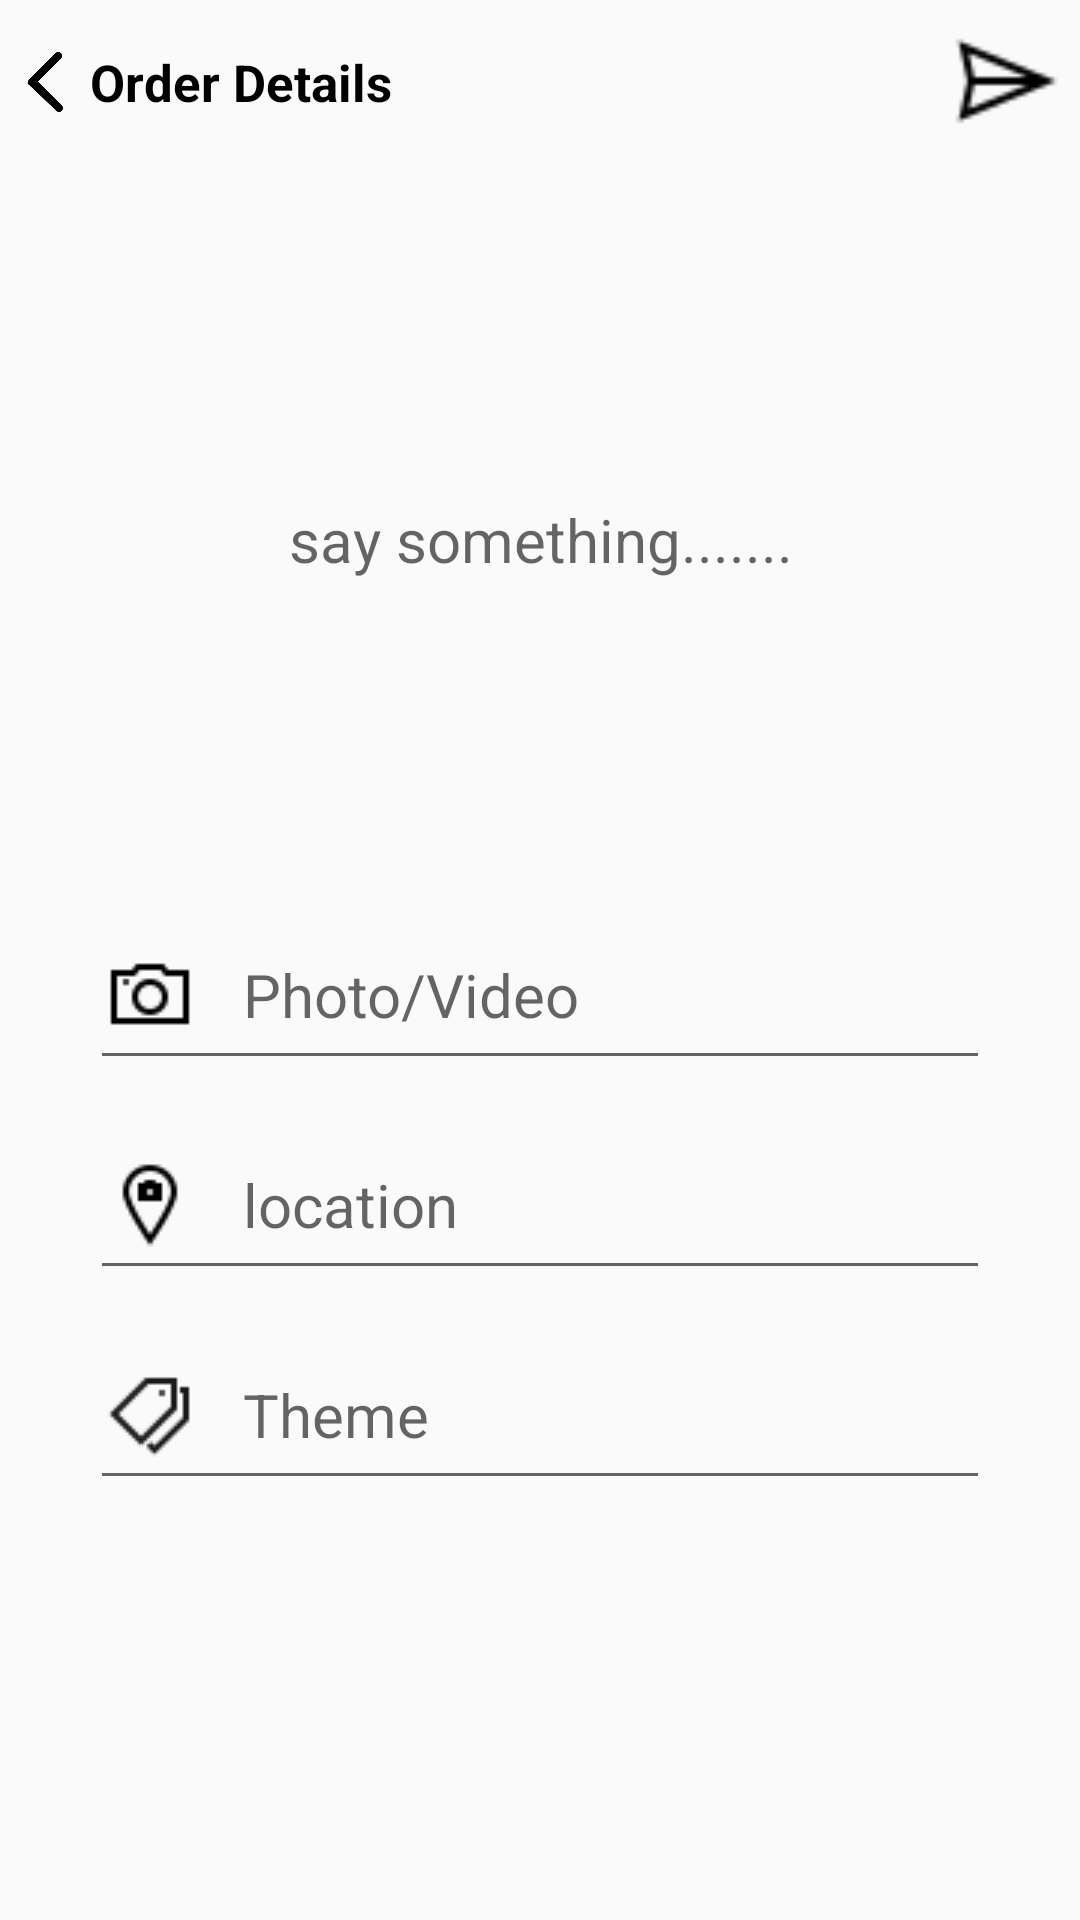

Where to tap for icons on this 1080px×1920px app screen, as point (x, y):
back: point (45, 82)
sent: point (1006, 81)
